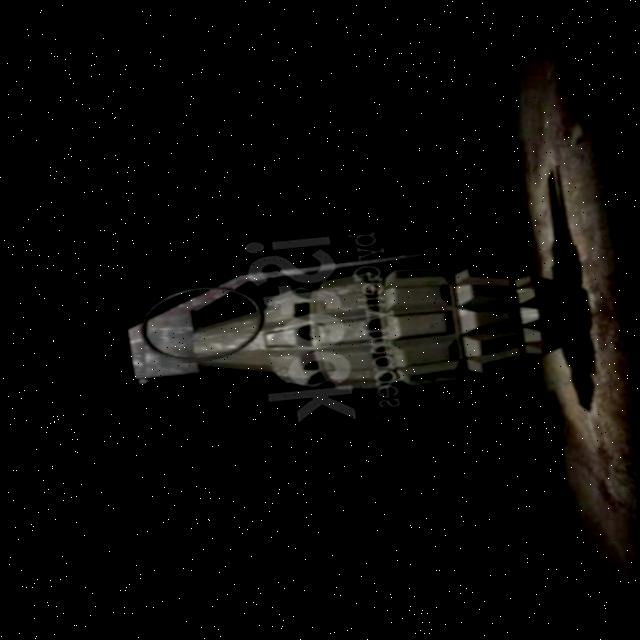grenade: (97, 213, 595, 434)
